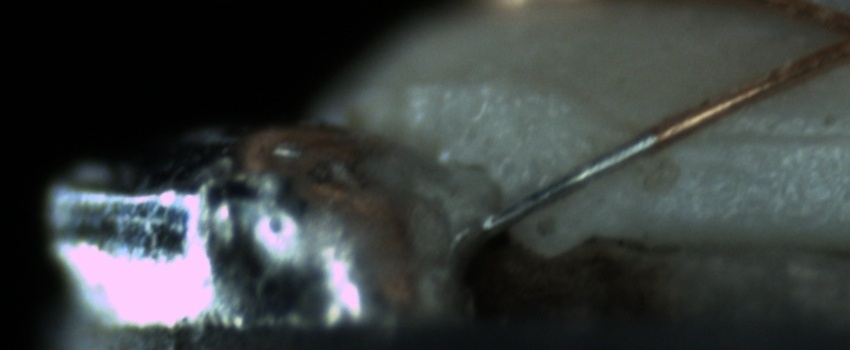DL: (703, 107, 849, 170)
TS: (479, 129, 663, 237)
